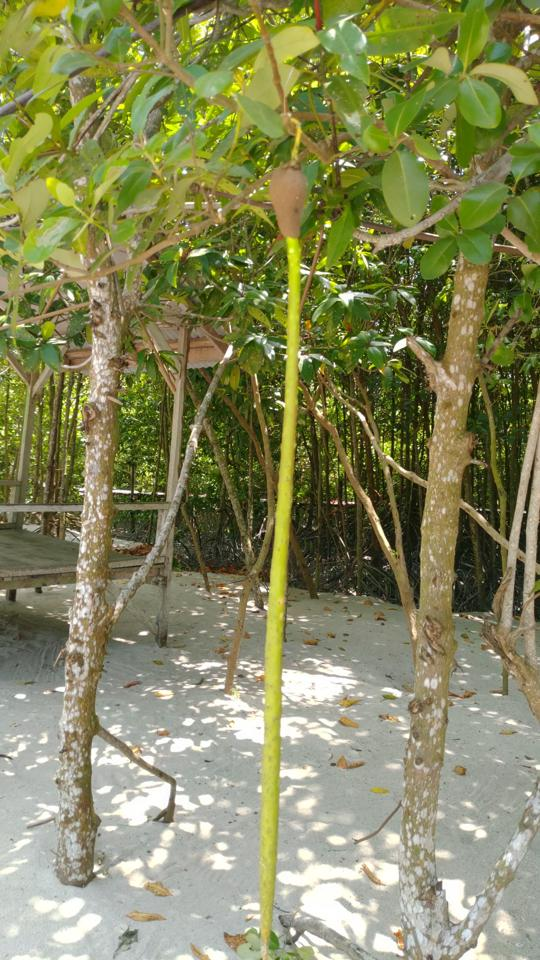mentah: (248, 155, 312, 959)
